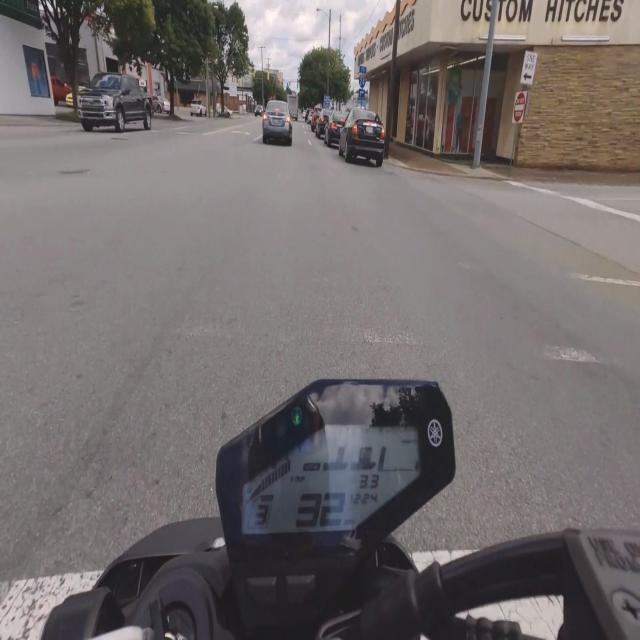car: (78, 73, 151, 132), (339, 108, 384, 167), (263, 101, 292, 145), (324, 111, 346, 146), (315, 109, 331, 138), (151, 95, 170, 113), (310, 107, 322, 132), (191, 99, 206, 116), (254, 105, 263, 116)
motorcycle: (42, 381, 639, 639)
